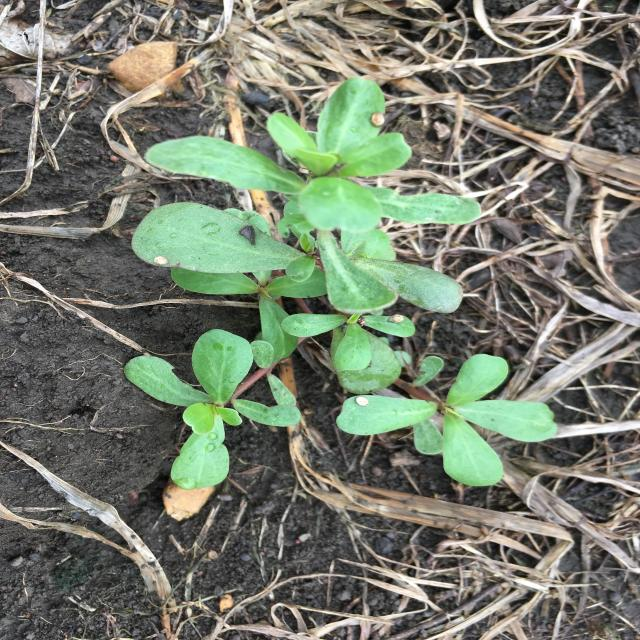Purslane: (124, 78, 558, 490)
